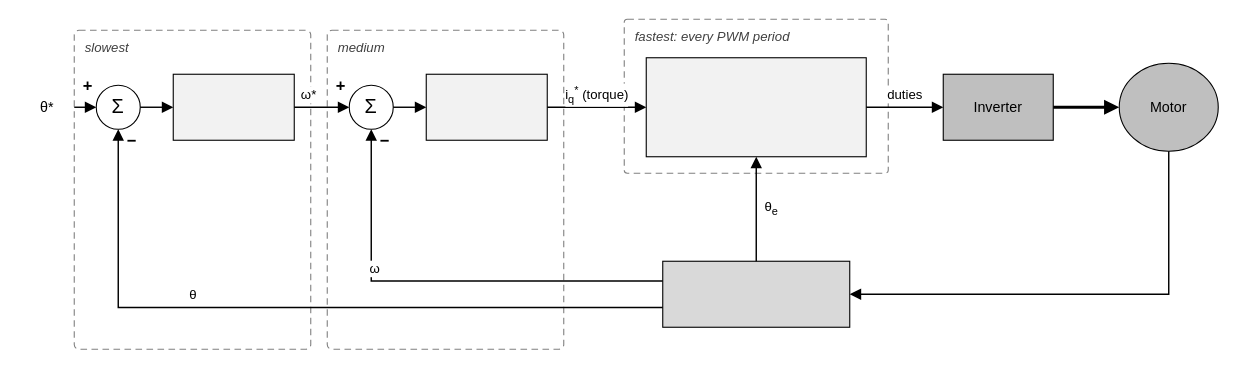
Some shapes in this 1238 by 369 pixel diagram are drawn without their labels. The centre of each missing label's shape, as x and y in pixels:
"Angle and speed (sensor or observer)" belongs at [756,293].
"Current loop (FoC) Clarke, Park, PI d/q, inverse Park, SVM" belongs at [755,107].
"Position controller" belongs at [233,106].
"Speed controller" belongs at [486,106].
